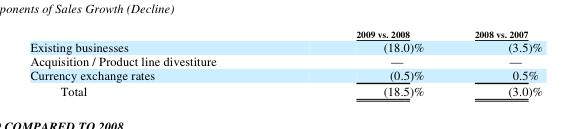table: (29, 28, 541, 97)
table column: (29, 28, 285, 97), (285, 28, 448, 97), (448, 28, 541, 97)
table column header: (29, 28, 541, 39)
table row: (29, 67, 541, 82), (29, 82, 541, 97), (29, 39, 541, 53), (29, 53, 541, 67), (29, 28, 541, 39)
